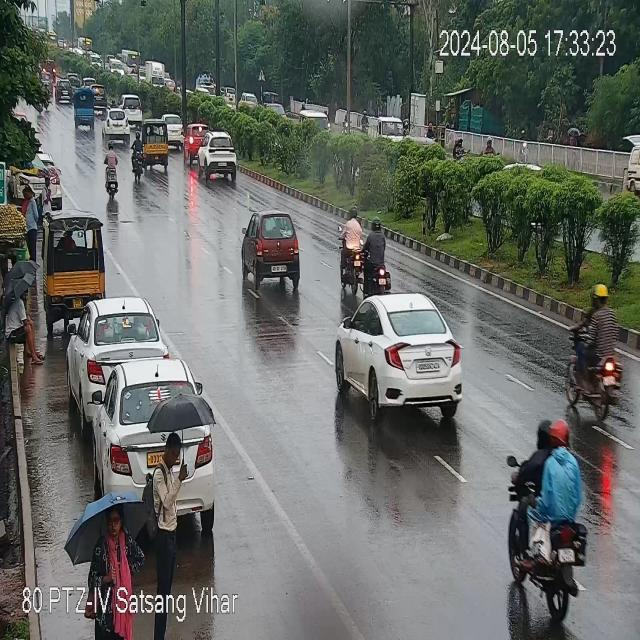2-wheelers: (568, 296, 624, 421), (337, 214, 394, 296), (103, 148, 121, 199), (132, 145, 149, 179)
auto: (44, 214, 108, 314), (132, 123, 172, 172), (71, 86, 100, 128)
car: (104, 367, 220, 522), (342, 295, 469, 414), (69, 299, 163, 396), (238, 213, 302, 289), (197, 136, 240, 182), (285, 105, 332, 140), (180, 123, 212, 165), (105, 108, 135, 144), (377, 113, 405, 149), (190, 77, 218, 103), (164, 117, 186, 145)
pedestrian: (143, 430, 185, 586), (540, 424, 583, 546), (87, 506, 140, 593), (5, 294, 40, 364), (20, 184, 42, 255)
